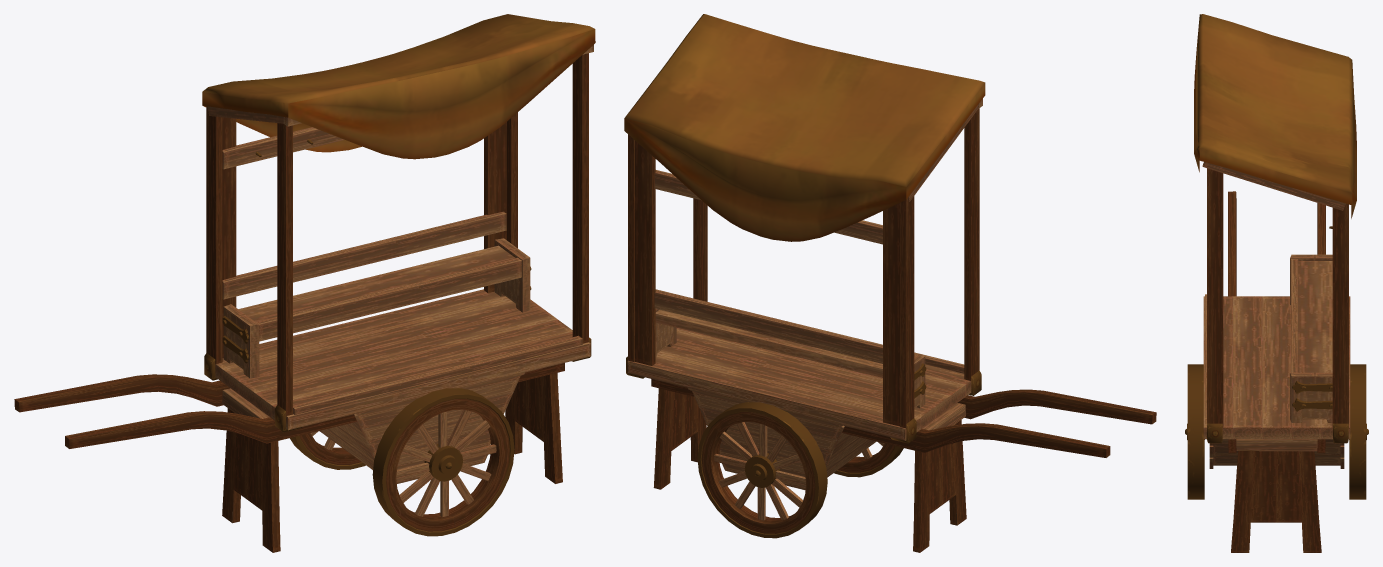
The model's file is Stall_Cart_Empty.gltf.
3 renders of one model, left to right at view 1: azimuth 30°, elevation 25°; view 2: azimuth 150°, elevation 25°; view 3: azimuth 270°, elevation 25°, orthographic. The views are drawn at different scales.
Visible parts, largest first — view 1: Stall_Cart_Empty; view 2: Stall_Cart_Empty; view 3: Stall_Cart_Empty.
Part boxes in pixels (x1,y1,x2,y2): Stall_Cart_Empty: (14, 14, 595, 552); Stall_Cart_Empty: (624, 14, 1156, 552); Stall_Cart_Empty: (1185, 14, 1368, 552).
Size of the model in its own units: 3.02 by 2.63 by 1.06.
3 materials, 3 textured.
